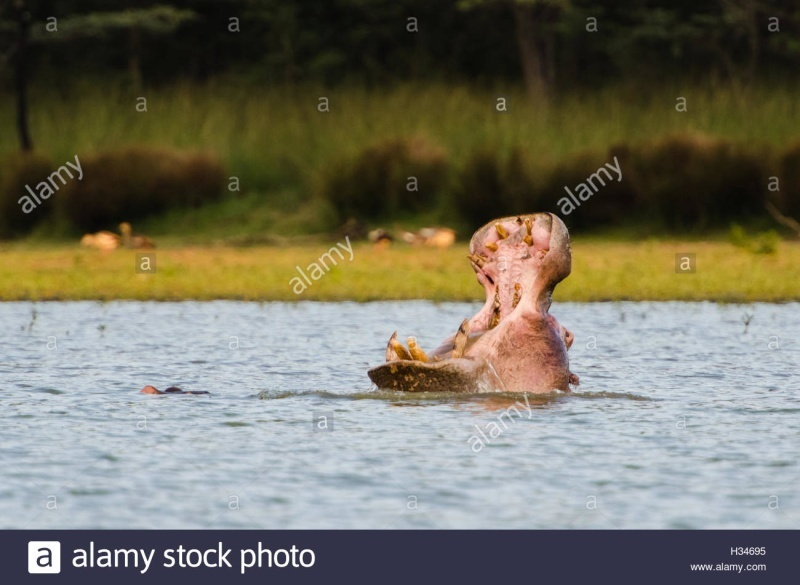hipopotamo: (349, 204, 603, 413)
